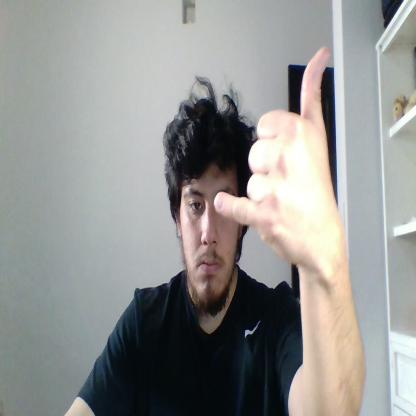Y: (214, 44, 342, 266)
